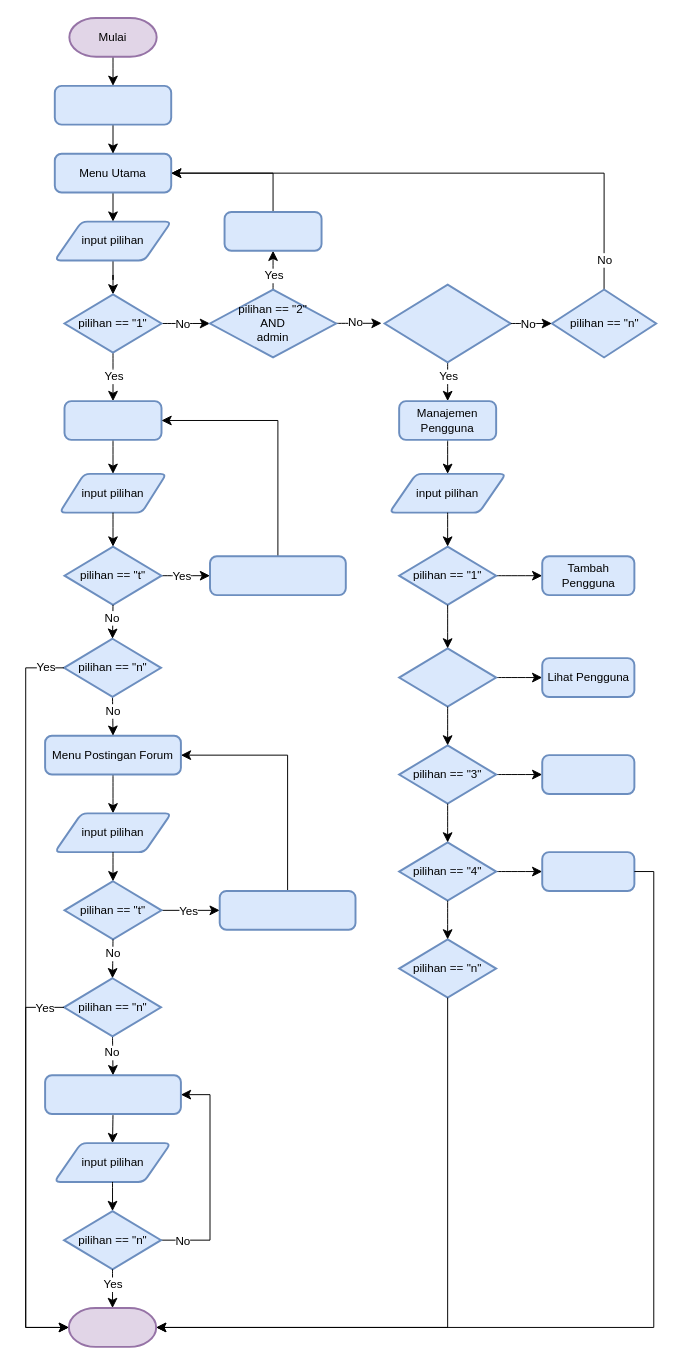
Some shapes in this 681 by 1364 pixel diagram are drawn without their labels. Here are the shapes that lost their labels. From the top down, the centre of each, then its label:
[112,104]: Menu Login
[272,230]: Dashboard
[447,323]: pilihan == "3" AND admin
[112,420]: Menu Forum
[277,575]: Buat Forum
[447,677]: pilihan == "2"
[588,774]: Edit Pengguna
[588,871]: Hapus Pengguna
[287,909]: Buat postingan
[112,1094]: Postingan
[112,1327]: Selesai
